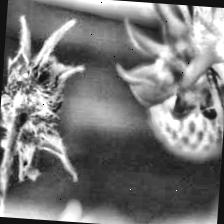Gray Mold: (0, 12, 88, 184)
